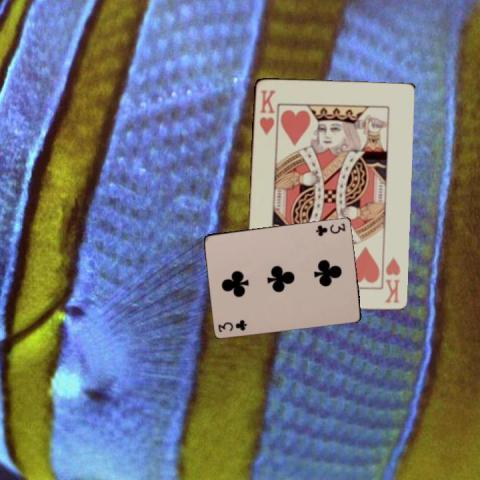3c: (313, 220, 347, 237), (215, 317, 248, 334)
Kh: (256, 86, 277, 136), (382, 255, 402, 304)
